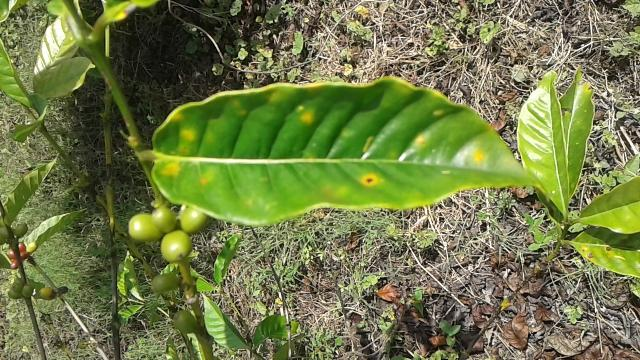rust_level_1: (148, 72, 554, 228)
